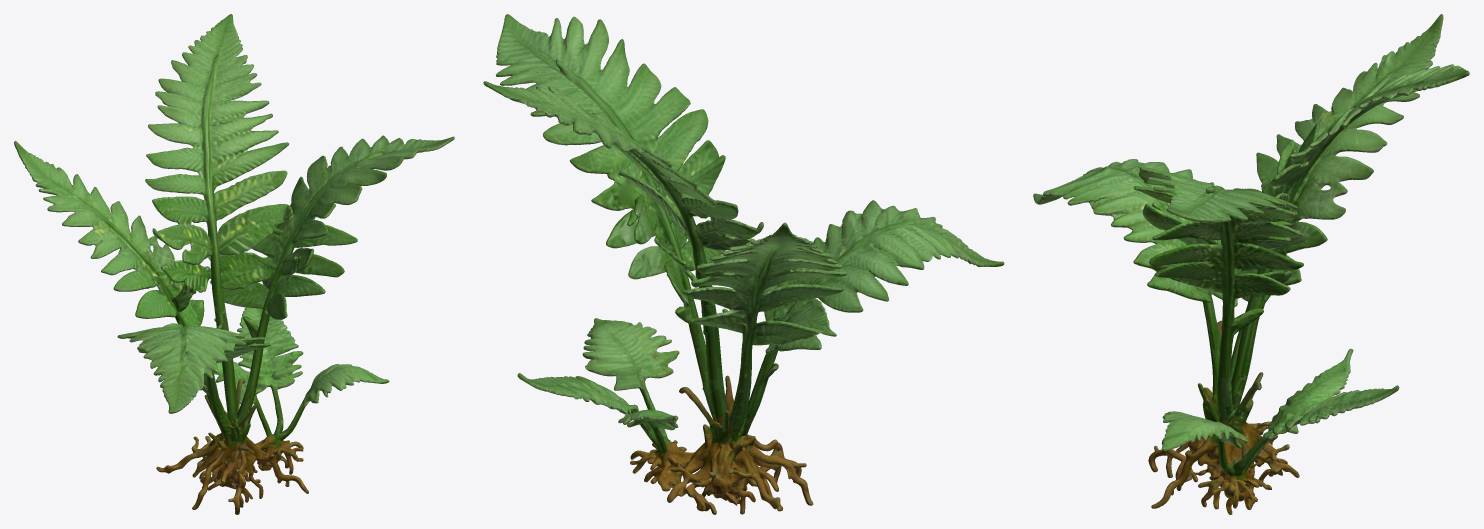
Rendered from moon-ferns.glb.
The picture shows the model from 3 angles, left to right: view 1: azimuth 30°, elevation 25°; view 2: azimuth 150°, elevation 25°; view 3: azimuth 270°, elevation 25°; orthographic projection. The views are drawn at different scales.
Visible parts, largest first — view 1: geometry_0; view 2: geometry_0; view 3: geometry_0.
Part boxes in pixels (<box>): geometry_0: <box>14,14,454,514</box>; geometry_0: <box>483,14,1004,514</box>; geometry_0: <box>1033,14,1469,514</box>.
Bounding box in the file's own units: 0.45 × 0.4804 × 0.4024.
1 material, 1 textured.
